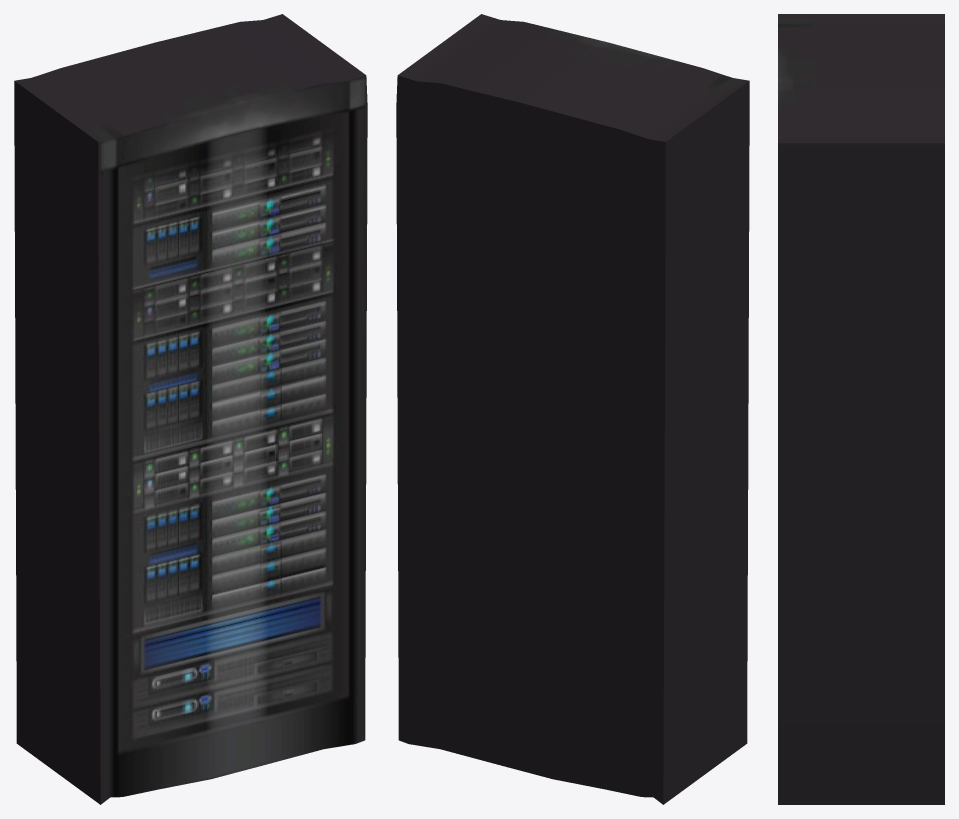
Rendered from server dalam rak.fbx.
3 views of the same model, side by side, from view 1: azimuth 30°, elevation 25°; view 2: azimuth 150°, elevation 25°; view 3: azimuth 270°, elevation 25° (orthographic).
Parts seen in each view (by area): view 1: root.001; view 2: root.001; view 3: root.001.
Part boxes in pixels (box(x1,y1,x2,y2)): root.001: box(14, 14, 367, 804); root.001: box(396, 14, 749, 804); root.001: box(778, 14, 944, 804).
Bounding box in the file's own units: 103 × 245 × 55.61.
